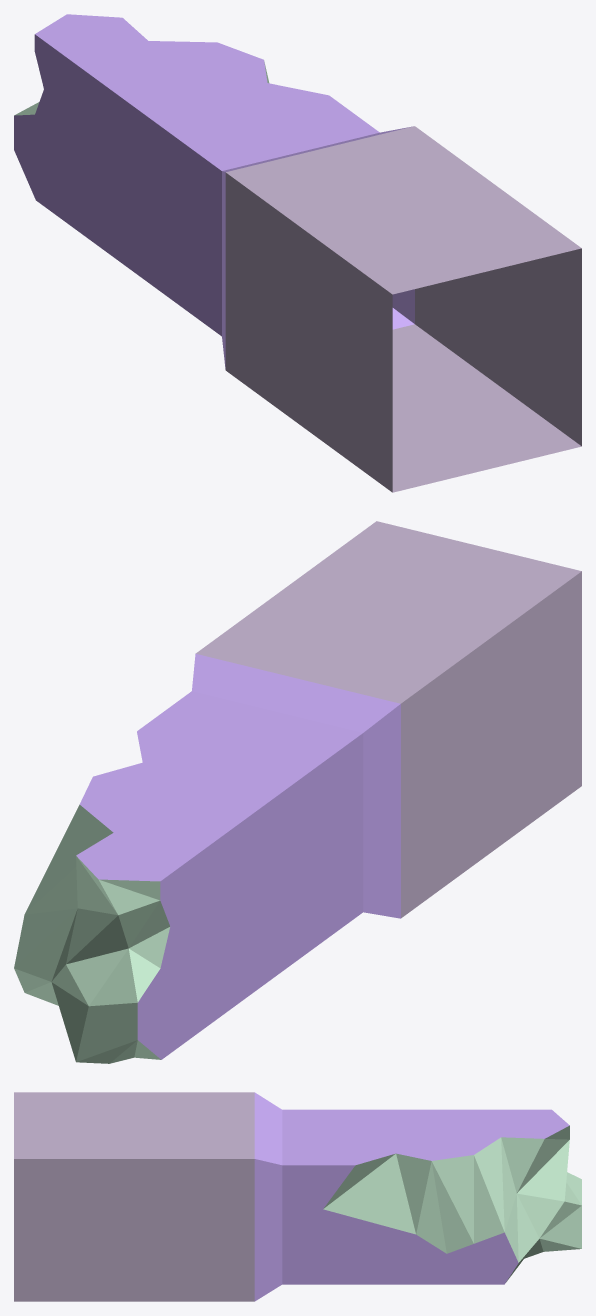
3 views of the same model, one above another, from view 1: azimuth 30°, elevation 25°; view 2: azimuth 150°, elevation 25°; view 3: azimuth 270°, elevation 25° (orthographic). The views are drawn at different scales.
Visible parts, largest first — view 1: Object19; view 2: Object19; view 3: Object19.
Boxes of the visible parts, x1,y1,x2,y2 form: Object19: (14, 14, 581, 492); Object19: (14, 521, 581, 1063); Object19: (14, 1092, 581, 1301).
Bounding box in the file's own units: 8437 × 8437 × 30413.
